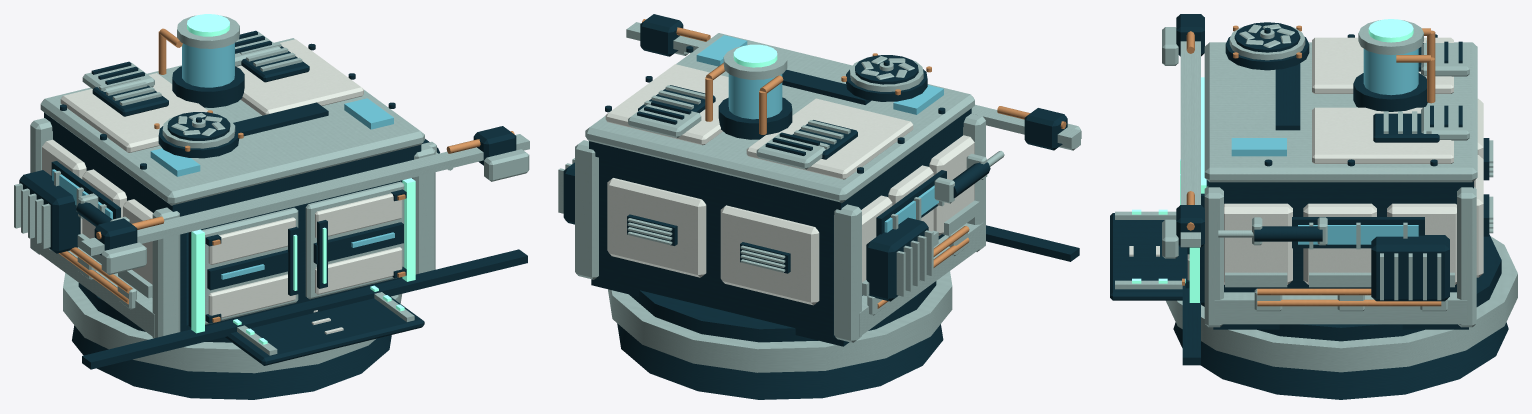
The model's file is laser.glb.
3 views of the same model, side by side, from view 1: azimuth 30°, elevation 25°; view 2: azimuth 150°, elevation 25°; view 3: azimuth 270°, elevation 25° (orthographic). The views are drawn at different scales.
Parts seen in each view (by area): view 1: _MeshInstance3D_586, RightDoor, LeftDoor, ProductionCoolingRotor; view 2: _MeshInstance3D_586, ProductionCoolingRotor; view 3: _MeshInstance3D_586, ProductionCoolingRotor, RightDoor.
Boxes of the visible parts, x1=… form: _MeshInstance3D_586: x1=14, y1=14, x2=529, y2=399; RightDoor: x1=301, y1=180, x2=406, y2=302; LeftDoor: x1=188, y1=205, x2=300, y2=327; ProductionCoolingRotor: x1=171, y1=112, x2=225, y2=135; _MeshInstance3D_586: x1=558, y1=14, x2=1081, y2=399; ProductionCoolingRotor: x1=861, y1=56, x2=914, y2=79; _MeshInstance3D_586: x1=1110, y1=14, x2=1517, y2=399; ProductionCoolingRotor: x1=1239, y1=24, x2=1294, y2=47; RightDoor: x1=1180, y1=174, x2=1208, y2=302.
Bounding box in the file's own units: 0.512 × 0.3245 × 0.399.
2 materials, 1 textured.
